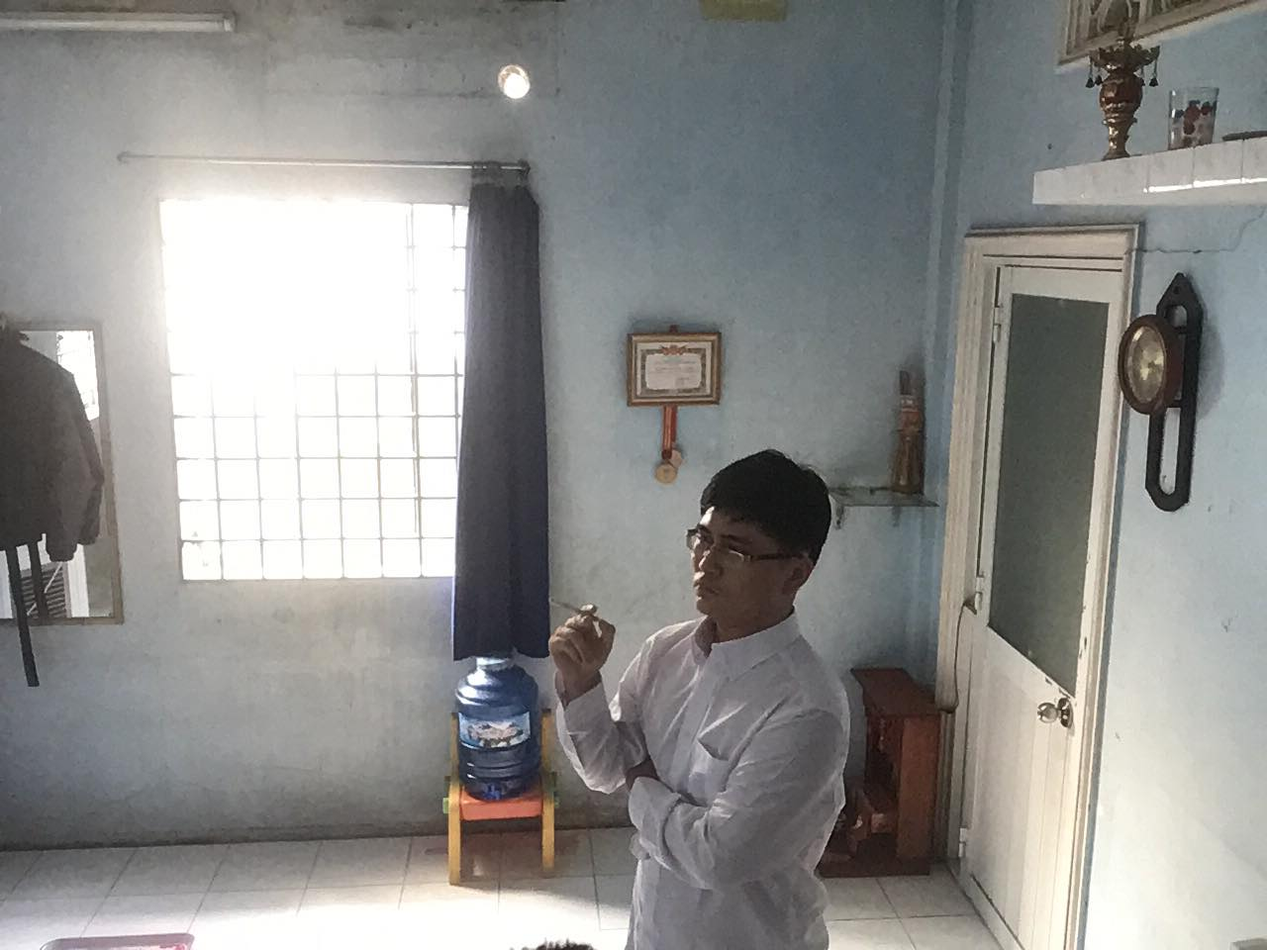cigarette: (555, 591, 610, 623)
person: (501, 415, 884, 950)
